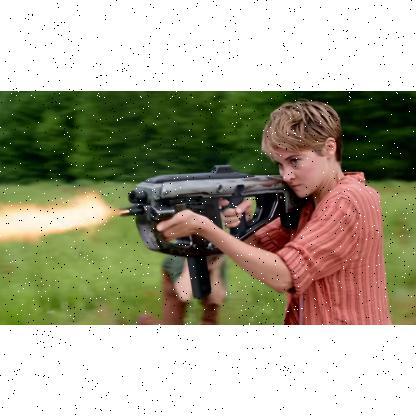gun: (116, 162, 300, 297)
